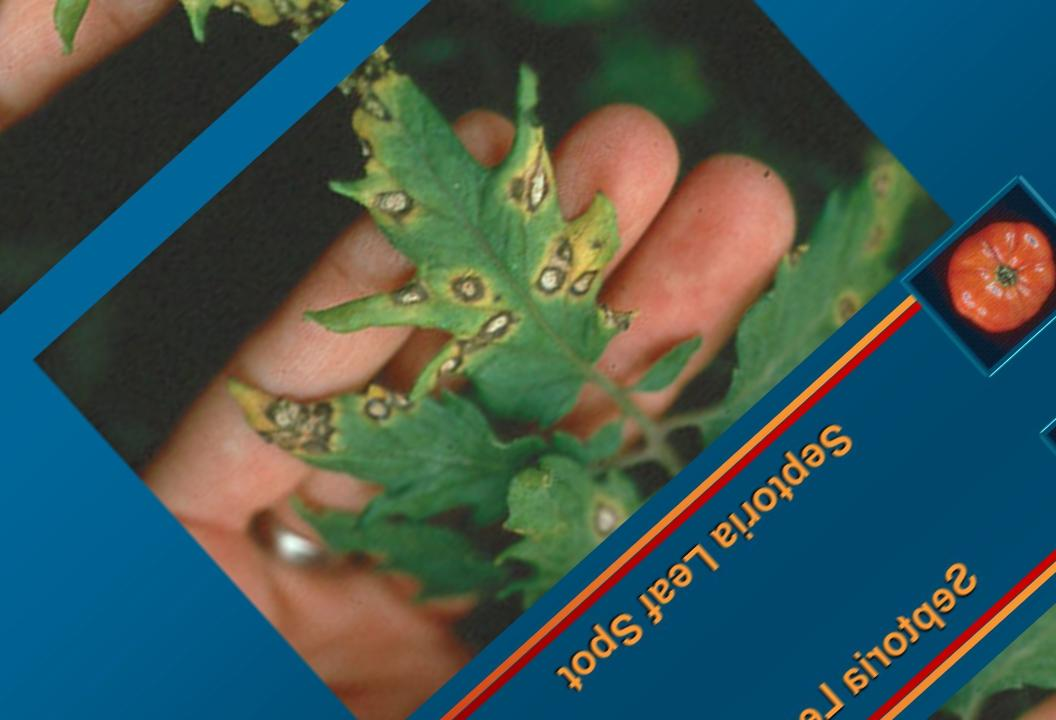Tomato Septoria leaf spot: (225, 0, 716, 475), (205, 261, 552, 615), (600, 137, 946, 466)
